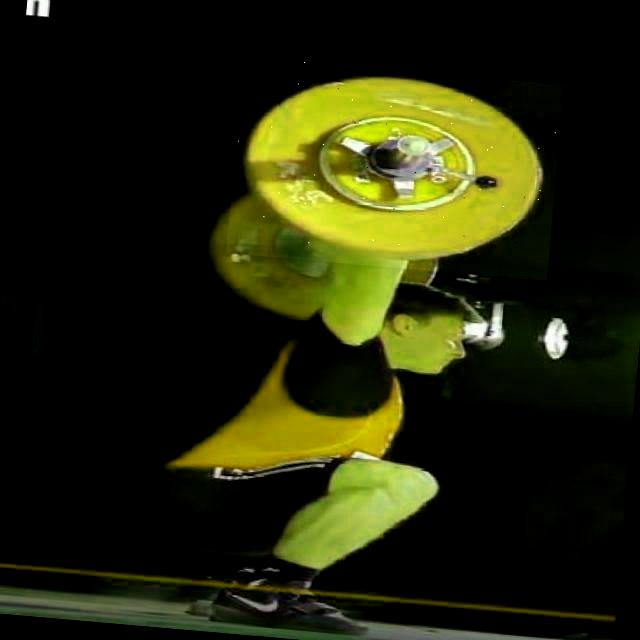barbell: (227, 58, 565, 282)
